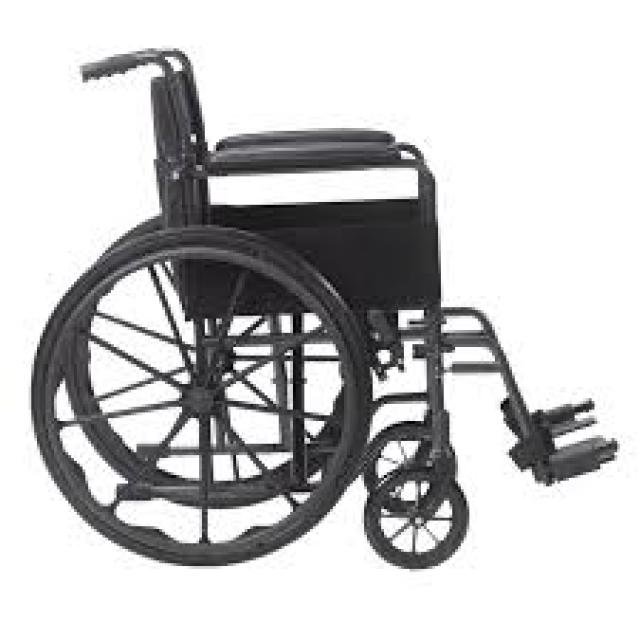wheelchairs: (26, 43, 623, 586)
